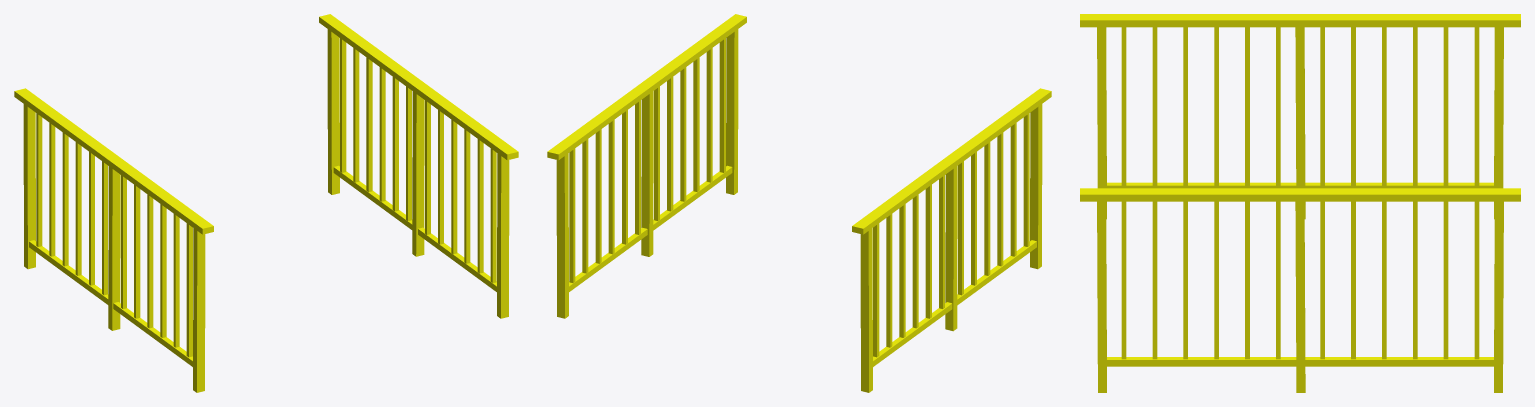
The model's file is stairs-rails-metal-straight-2.glb.
3 renders of one model, left to right at view 1: azimuth 30°, elevation 25°; view 2: azimuth 150°, elevation 25°; view 3: azimuth 270°, elevation 25°, orthographic. The views are drawn at different scales.
Parts seen in each view (by area): view 1: Stairs_Rails_Metal_Straight_2; view 2: Stairs_Rails_Metal_Straight_2; view 3: Stairs_Rails_Metal_Straight_2.
Part boxes in pixels (box(x1,y1,x2,y2)): Stairs_Rails_Metal_Straight_2: box(14, 14, 518, 392); Stairs_Rails_Metal_Straight_2: box(547, 14, 1051, 392); Stairs_Rails_Metal_Straight_2: box(1080, 14, 1520, 392).
Bounding box in the file's own units: 1.94 × 0.9981 × 2.
1 material, 1 textured.
